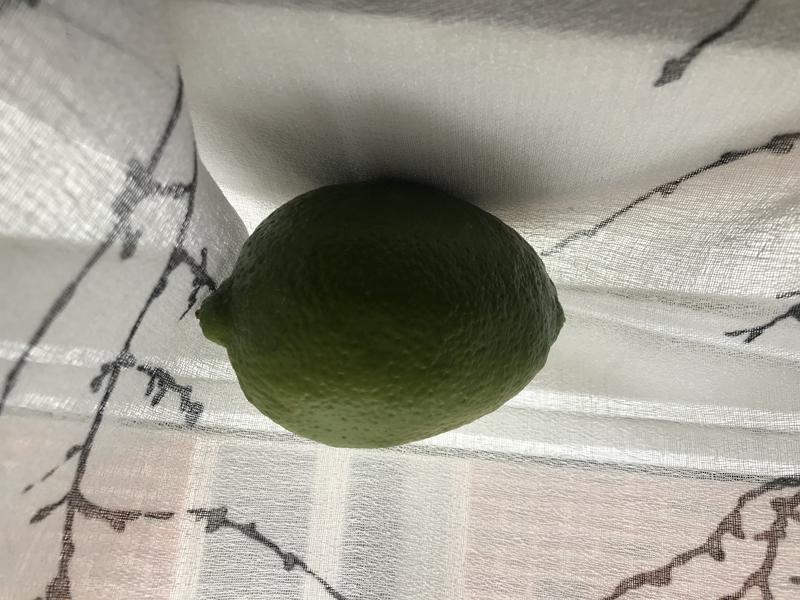lime: (180, 167, 579, 472)
